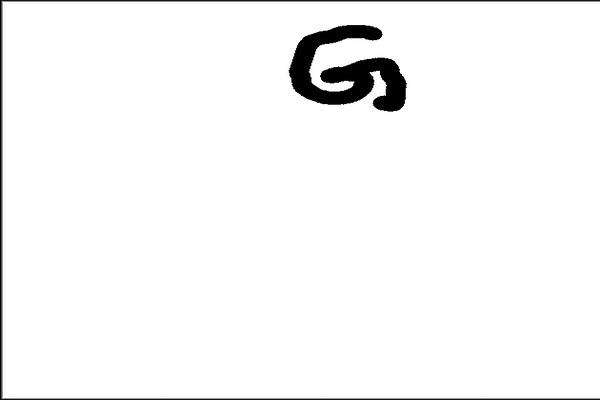G: (285, 23, 410, 118)
